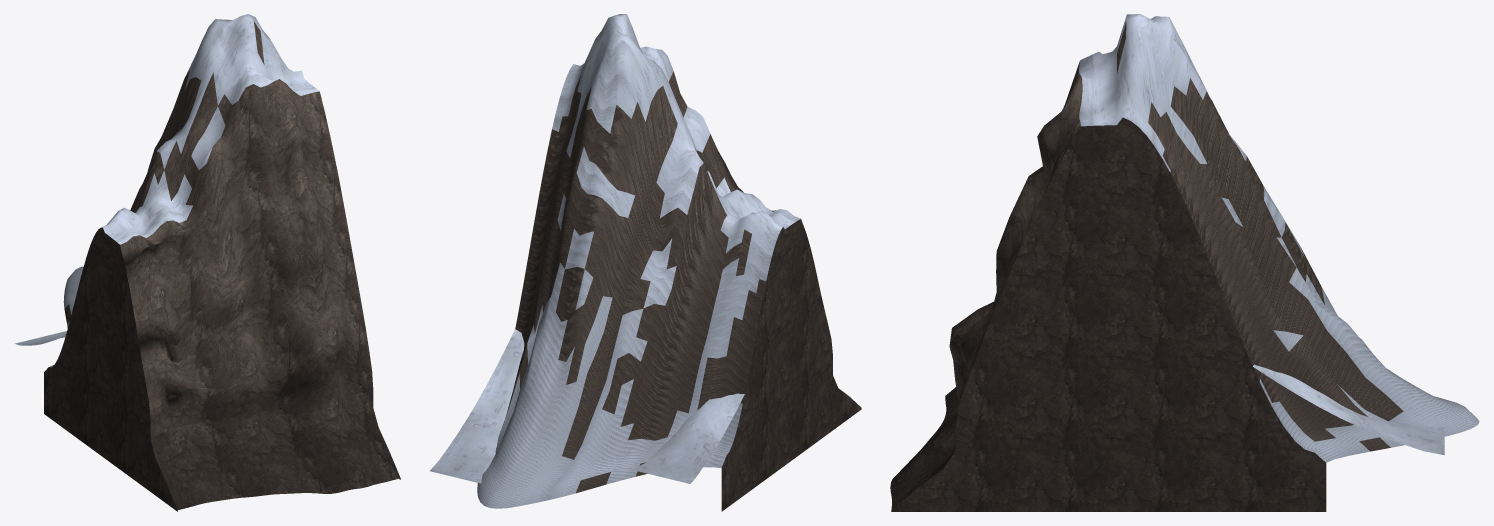
File: seacliff_step_h5h8_v5_winter.glb
3 views of the same model, side by side, from view 1: azimuth 30°, elevation 25°; view 2: azimuth 150°, elevation 25°; view 3: azimuth 270°, elevation 25° (orthographic). The views are drawn at different scales.
Parts seen in each view (by area): view 1: seacliff_step_h5h8; view 2: seacliff_step_h5h8; view 3: seacliff_step_h5h8.
Boxes of the visible parts, box(x1,y1,x2,y2) form: seacliff_step_h5h8: box(14, 14, 400, 511); seacliff_step_h5h8: box(430, 14, 861, 511); seacliff_step_h5h8: box(890, 14, 1479, 511).
Size of the model in its own units: 6 by 11.48 by 13.09.
2 materials, 2 textured.
